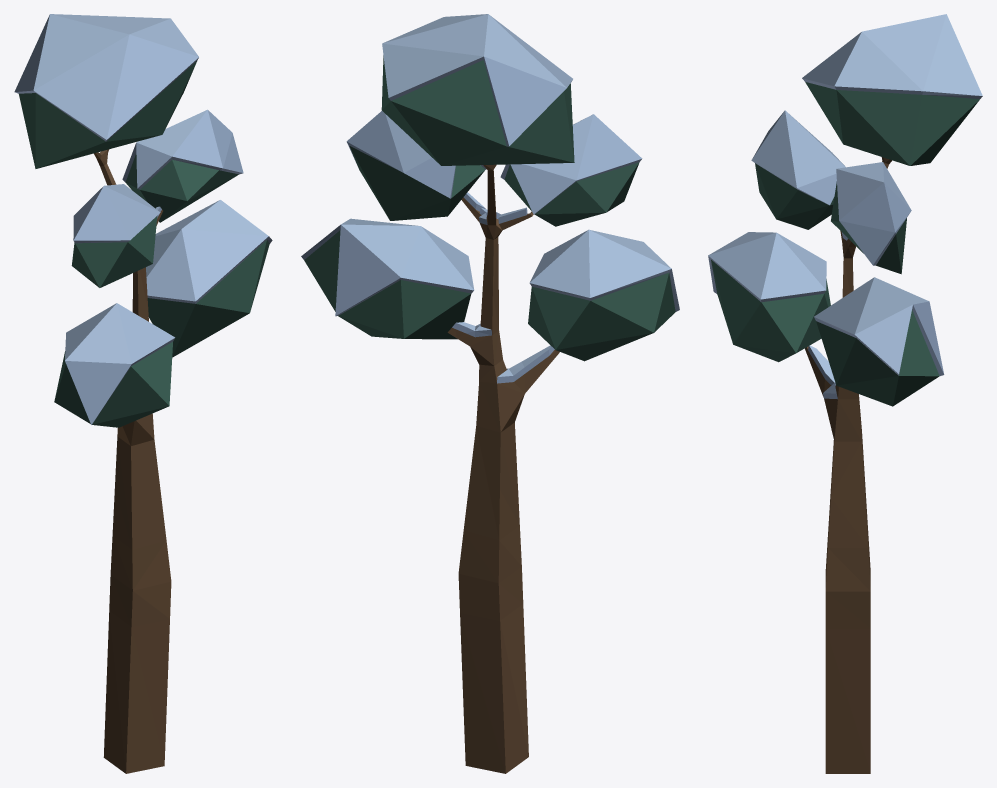
The model's file is Tree_Snow_Stick.glb.
3 renders of one model, left to right at view 1: azimuth 30°, elevation 25°; view 2: azimuth 150°, elevation 25°; view 3: azimuth 270°, elevation 25°, orthographic. The views are drawn at different scales.
Visible parts, largest first — view 1: Tree_Snow_Stick_LOD0; view 2: Tree_Snow_Stick_LOD0; view 3: Tree_Snow_Stick_LOD0.
Part boxes in pixels (left/top/right/bottom): Tree_Snow_Stick_LOD0: left=14, top=14, right=272, bottom=773; Tree_Snow_Stick_LOD0: left=301, top=14, right=679, bottom=773; Tree_Snow_Stick_LOD0: left=708, top=14, right=982, bottom=773.
Size of the model in its own units: 2.75 by 6.74 by 2.29.
